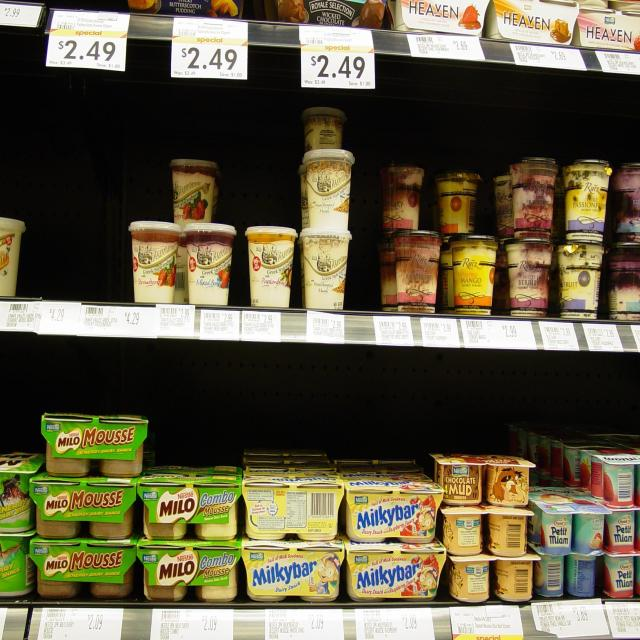empty_space: (151, 347, 633, 445), (23, 79, 129, 305), (379, 77, 633, 163), (4, 338, 152, 415), (227, 80, 291, 220), (134, 68, 173, 220), (177, 79, 222, 168)
